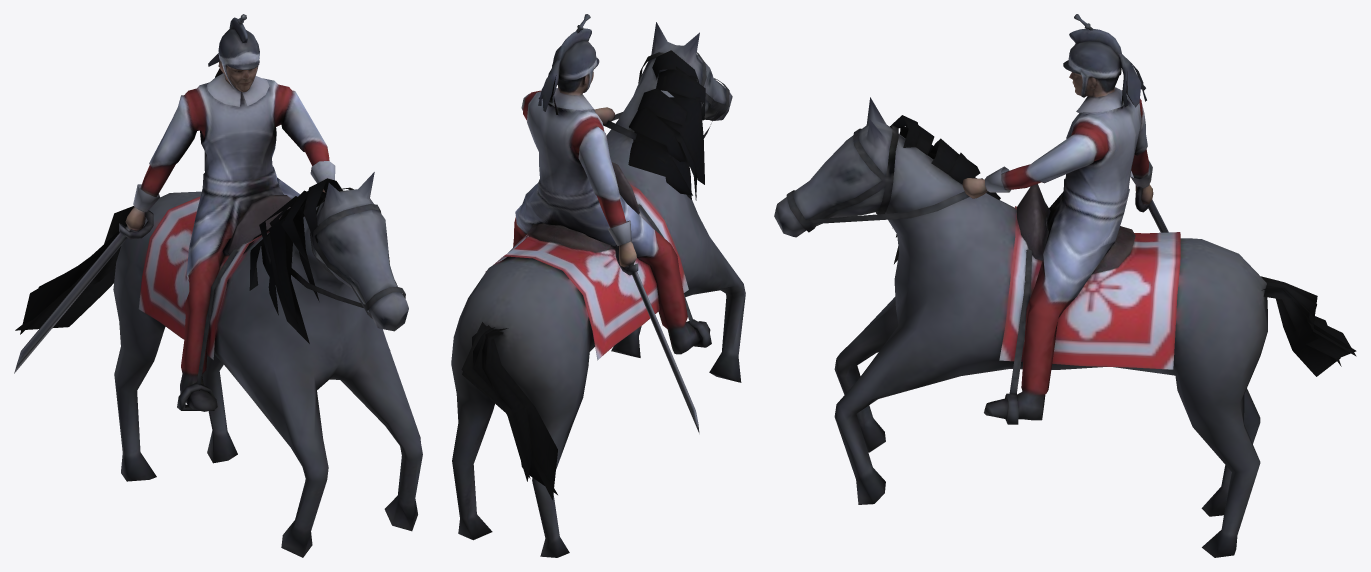
The model's file is Dragoons.glb.
3 views of the same model, side by side, from view 1: azimuth 30°, elevation 25°; view 2: azimuth 150°, elevation 25°; view 3: azimuth 270°, elevation 25° (orthographic). The views are drawn at different scales.
Parts seen in each view (by area): view 1: hor_low, sol_low; view 2: hor_low, sol_low; view 3: hor_low, sol_low.
Part boxes in pixels (bbox=[...]): hor_low: bbox=[15, 172, 422, 557]; sol_low: bbox=[14, 14, 335, 411]; hor_low: bbox=[451, 22, 745, 557]; sol_low: bbox=[513, 14, 710, 433]; hor_low: bbox=[774, 97, 1356, 557]; sol_low: bbox=[962, 14, 1168, 420].
Size of the model in its own units: 1.48 by 2.48 by 2.55.
2 materials, 2 textured.
